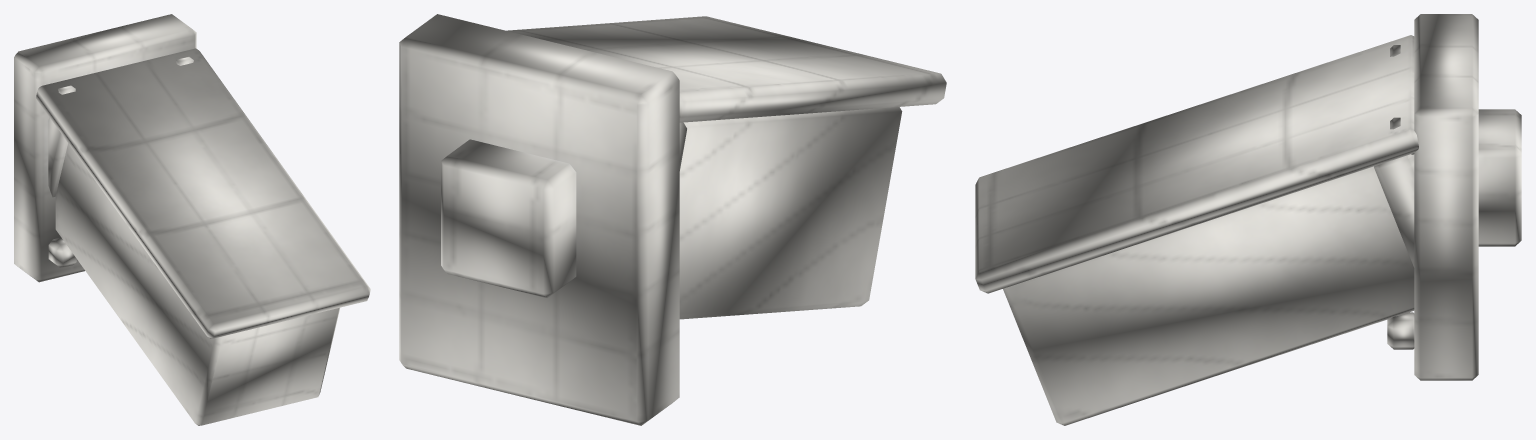
The model's file is Camara_Pared.fbx.
3 renders of one model, left to right at view 1: azimuth 30°, elevation 25°; view 2: azimuth 150°, elevation 25°; view 3: azimuth 270°, elevation 25°, orthographic. The views are drawn at different scales.
Parts seen in each view (by area): view 1: Camara_Pared; view 2: Camara_Pared; view 3: Camara_Pared.
Part boxes in pixels (x1=…): Camara_Pared: x1=14, y1=14, x2=370, y2=425; Camara_Pared: x1=399, y1=14, x2=946, y2=425; Camara_Pared: x1=975, y1=14, x2=1521, y2=425.
Bounding box in the file's own units: 1.1 × 1.69 × 2.54.
